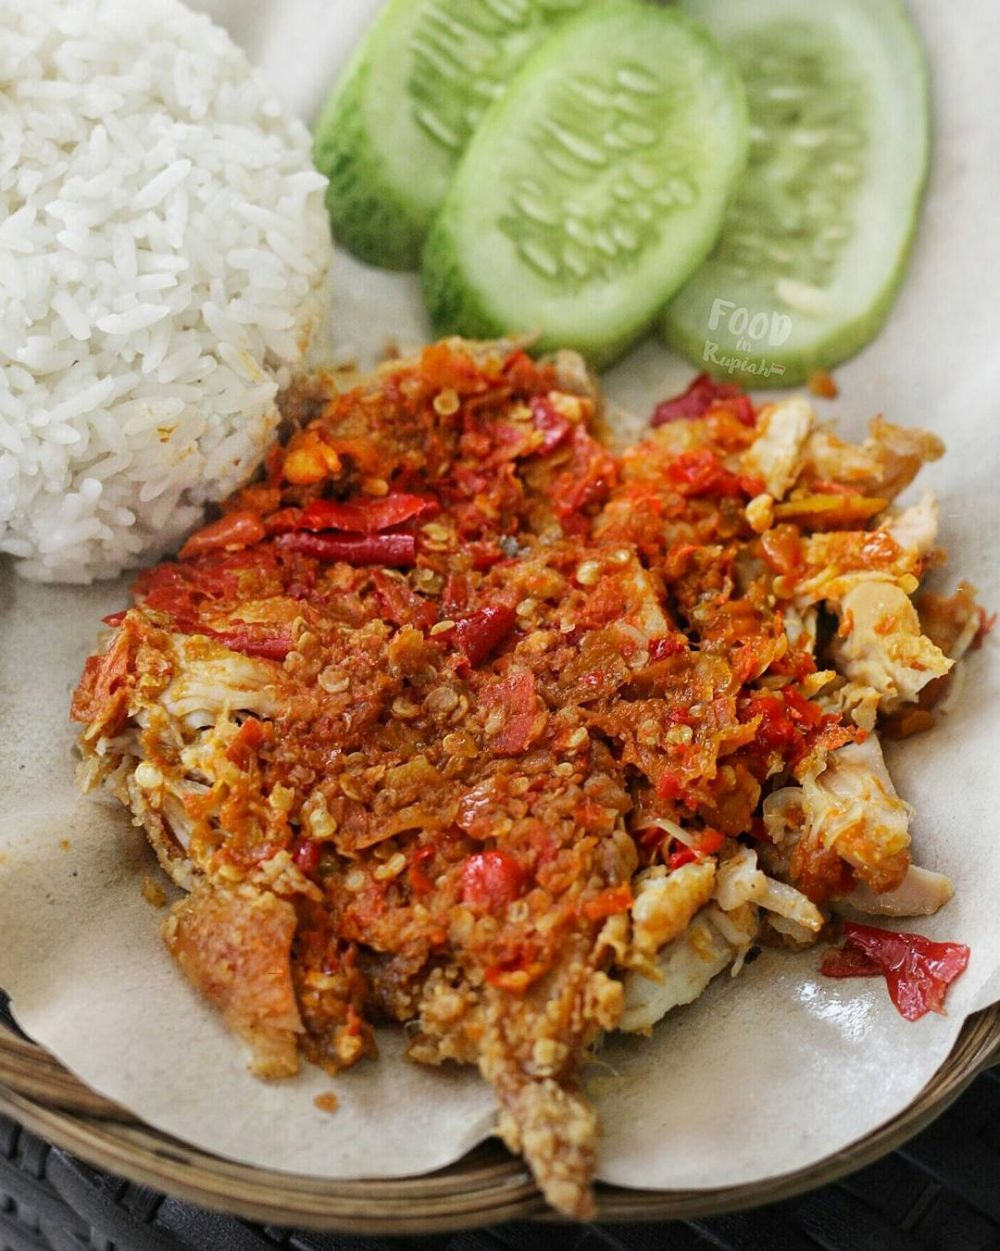ayam_geprek: (105, 392, 1000, 1121)
